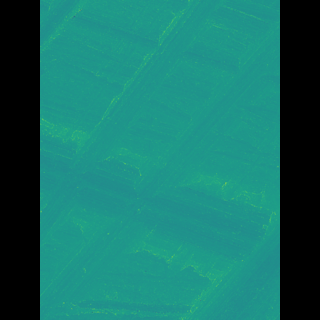Loch: (69, 19, 249, 320), (69, 0, 209, 248), (178, 227, 249, 320), (69, 0, 105, 62)
